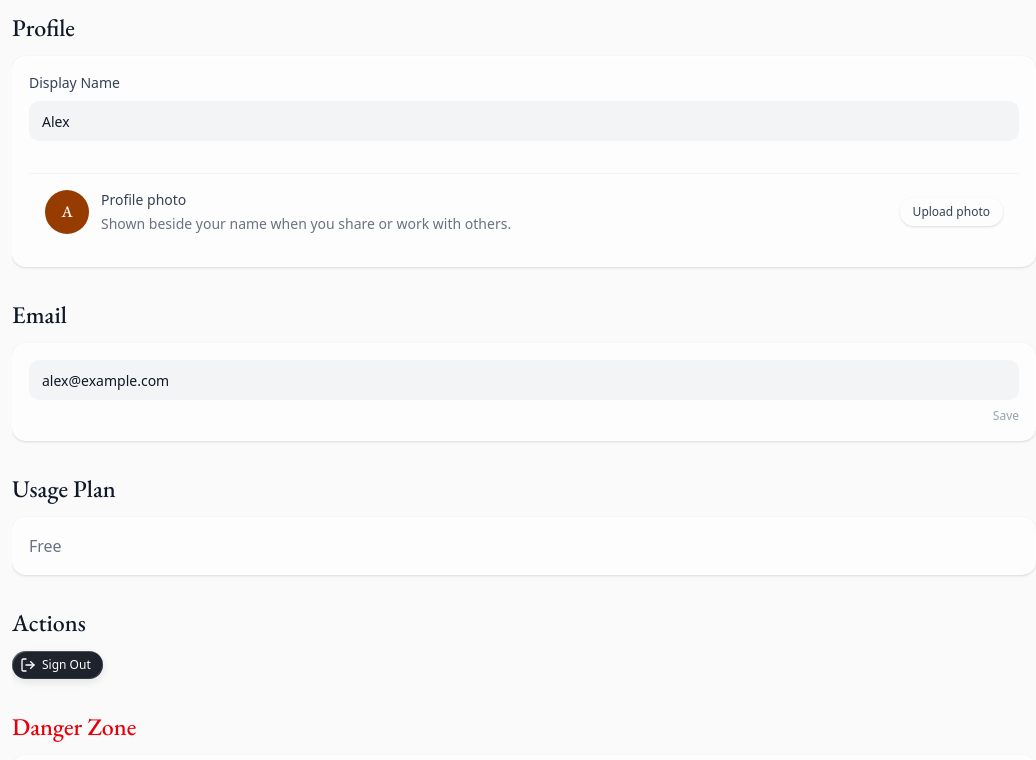
Test: SettingsPage Google email changes › says the connection failed rather than blaming the address
This screenshot has width=1036, height=760.
Replace the text in the field with placeholder "Enter your email" with "new@example.com" at (524,380), box [29,360,1019,400]
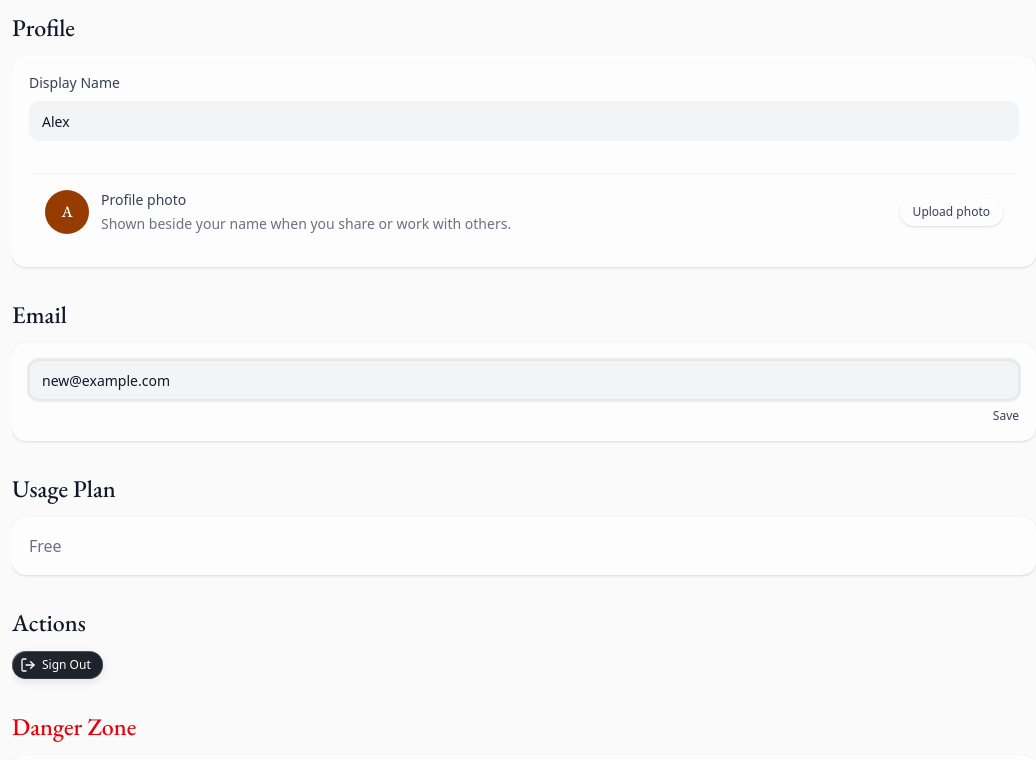
Click the button "Save" at (1006,416), box [993,408,1019,424]
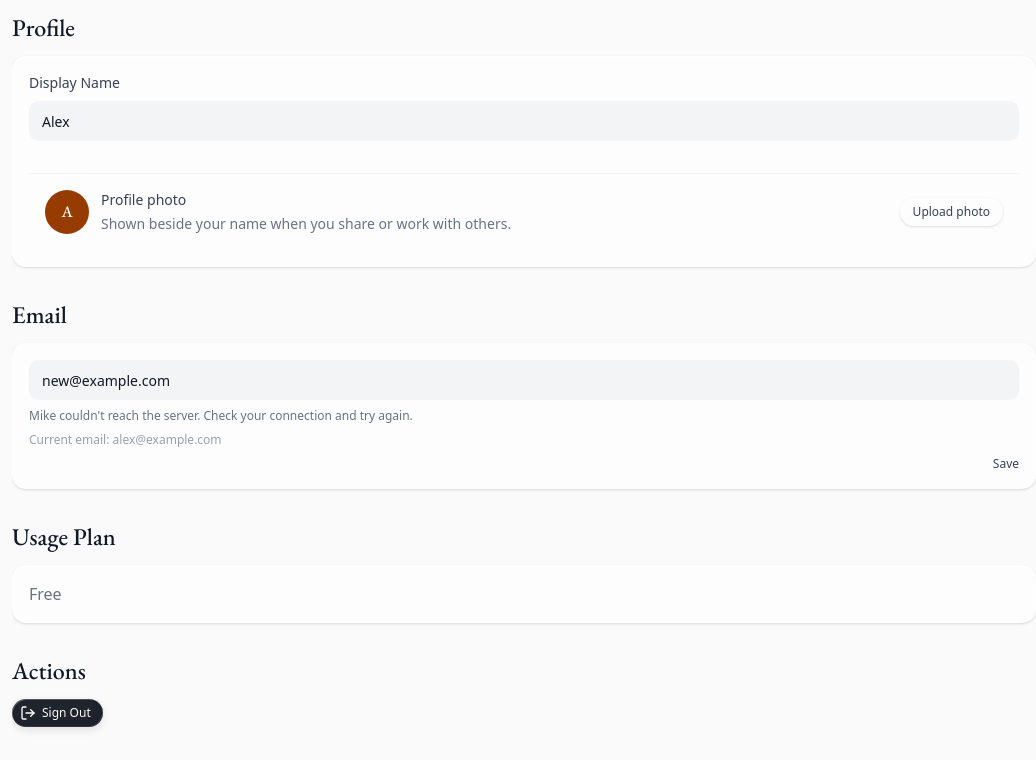
Now the text "Mike couldn't reach the server. Check your connection and try again." is shown, box [29,407,413,424]
